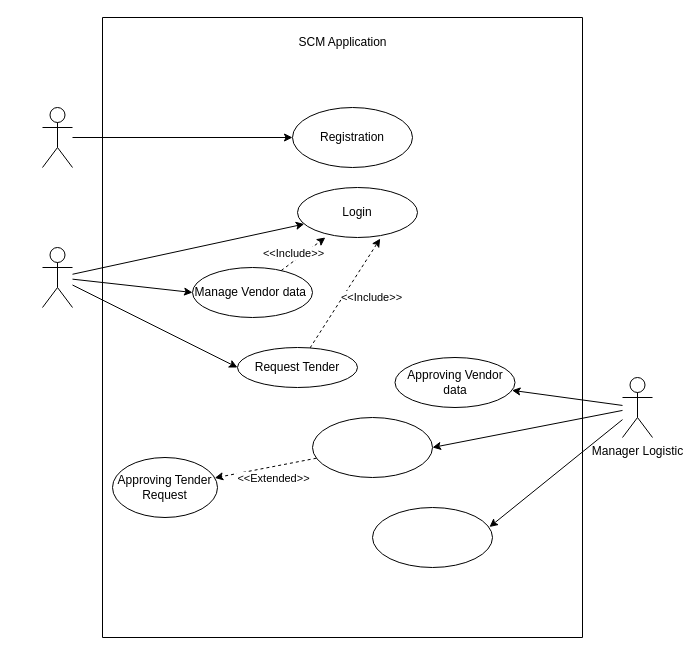
The diagram is 700 pixels wide and 655 high, and some of its shapes have lost their labels. Each missing label, with the box of its shape:
Company User: (42, 106, 72, 168)
Managing Temder Request: (312, 416, 432, 478)
Vendor User: (42, 246, 72, 308)
View History Tender: (372, 506, 492, 568)
